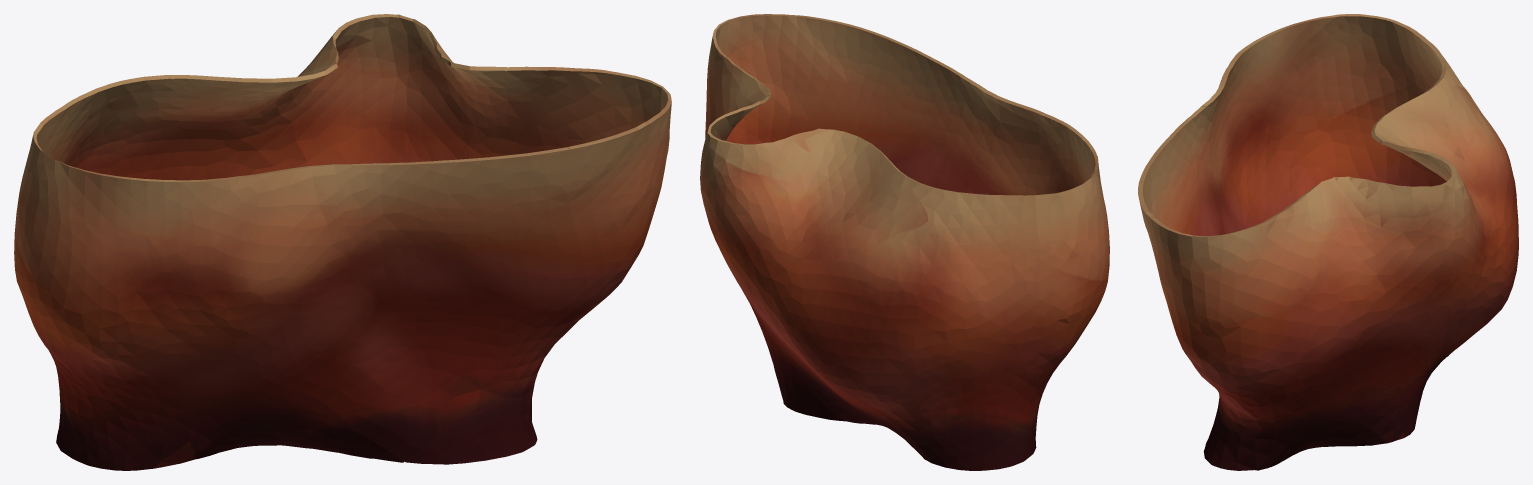
File: Chamber.fbx
3 views of the same model, side by side, from view 1: azimuth 30°, elevation 25°; view 2: azimuth 150°, elevation 25°; view 3: azimuth 270°, elevation 25° (orthographic). The views are drawn at different scales.
Parts seen in each view (by area): view 1: Chamber; view 2: Chamber; view 3: Chamber.
Boxes of the visible parts, <box> form: Chamber: <box>14,14,671,470</box>; Chamber: <box>700,14,1109,470</box>; Chamber: <box>1138,14,1518,470</box>.
Bounding box in the file's own units: 67.09 × 39.34 × 47.29.
1 material, 1 textured.
